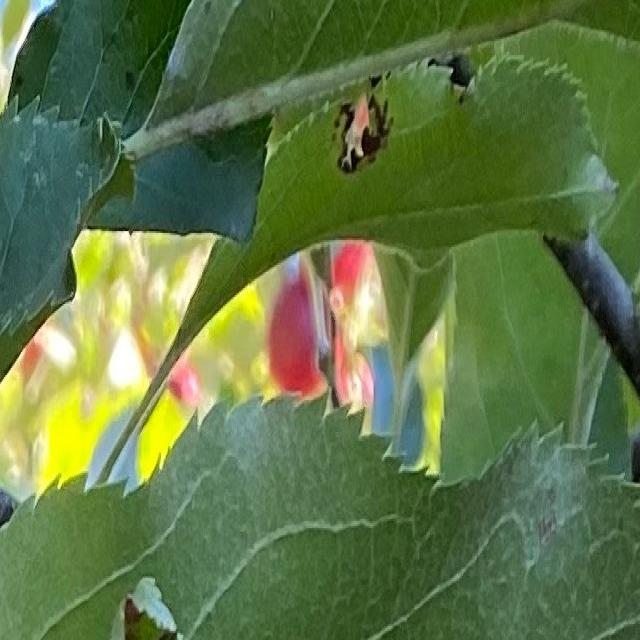100-_ripeness: (270, 277, 327, 393), (333, 238, 378, 322)
